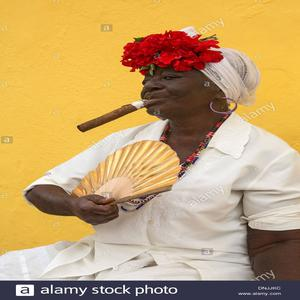cigarette: (75, 98, 149, 136)
